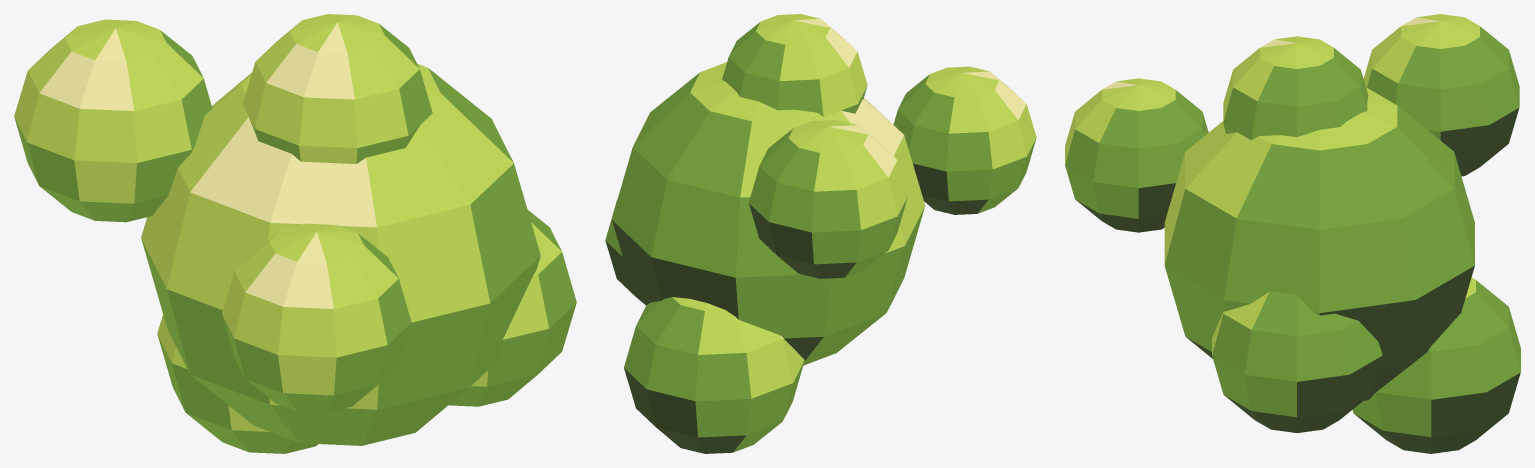
File: poison_bubbles.glb
The picture shows the model from 3 angles, left to right: view 1: azimuth 30°, elevation 25°; view 2: azimuth 150°, elevation 25°; view 3: azimuth 270°, elevation 25°; orthographic projection. The views are drawn at different scales.
Parts seen in each view (by area): view 1: poison_bubbles; view 2: poison_bubbles; view 3: poison_bubbles.
Part boxes in pixels (left/top/right/bottom): poison_bubbles: left=14, top=14, right=576, bottom=453; poison_bubbles: left=605, top=14, right=1036, bottom=453; poison_bubbles: left=1065, top=14, right=1520, bottom=453.
Bounding box in the file's own units: 1.41 × 1.47 × 1.54.
